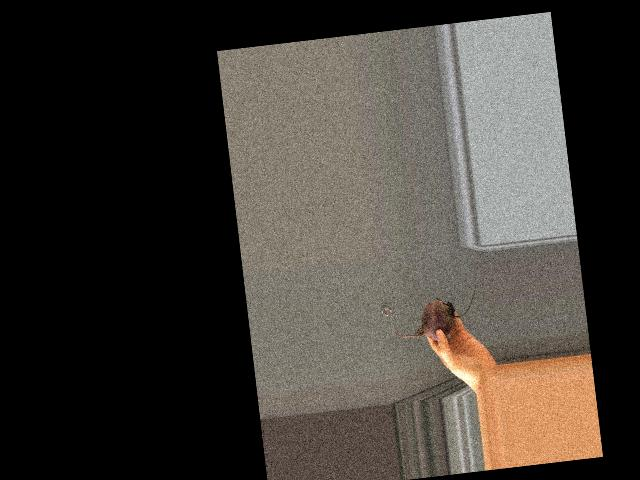beet: (385, 279, 482, 345)
